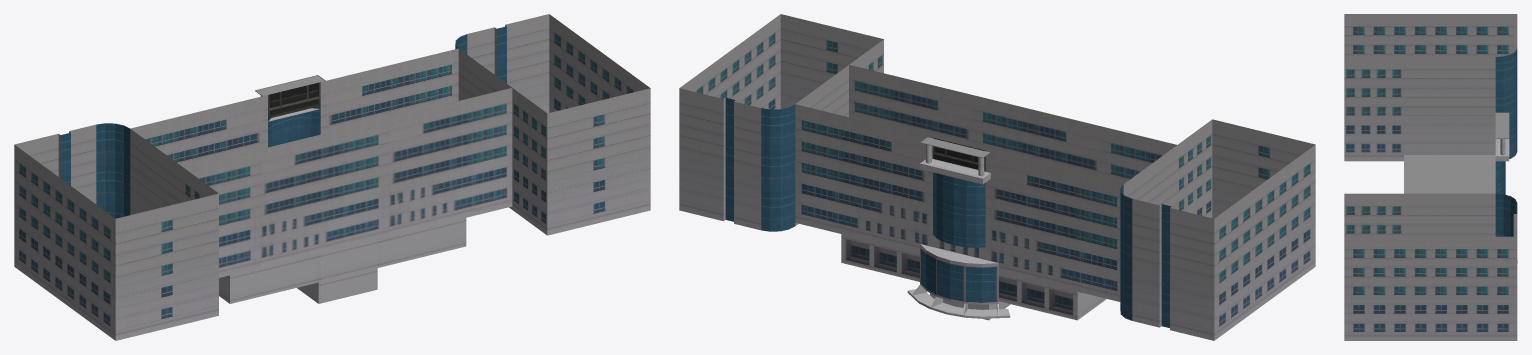
File: side building11.FBX
3 views of the same model, side by side, from view 1: azimuth 30°, elevation 25°; view 2: azimuth 150°, elevation 25°; view 3: azimuth 270°, elevation 25° (orthographic). The views are drawn at different scales.
Visible parts, largest first — view 1: 警官训练中心; view 2: 警官训练中心; view 3: 警官训练中心.
Boxes of the visible parts, x1,y1,x2,y2 form: 警官训练中心: (14, 14, 650, 340); 警官训练中心: (679, 14, 1315, 340); 警官训练中心: (1344, 14, 1517, 340).
Bounding box in the file's own units: 77.85 × 25.65 × 23.5.
